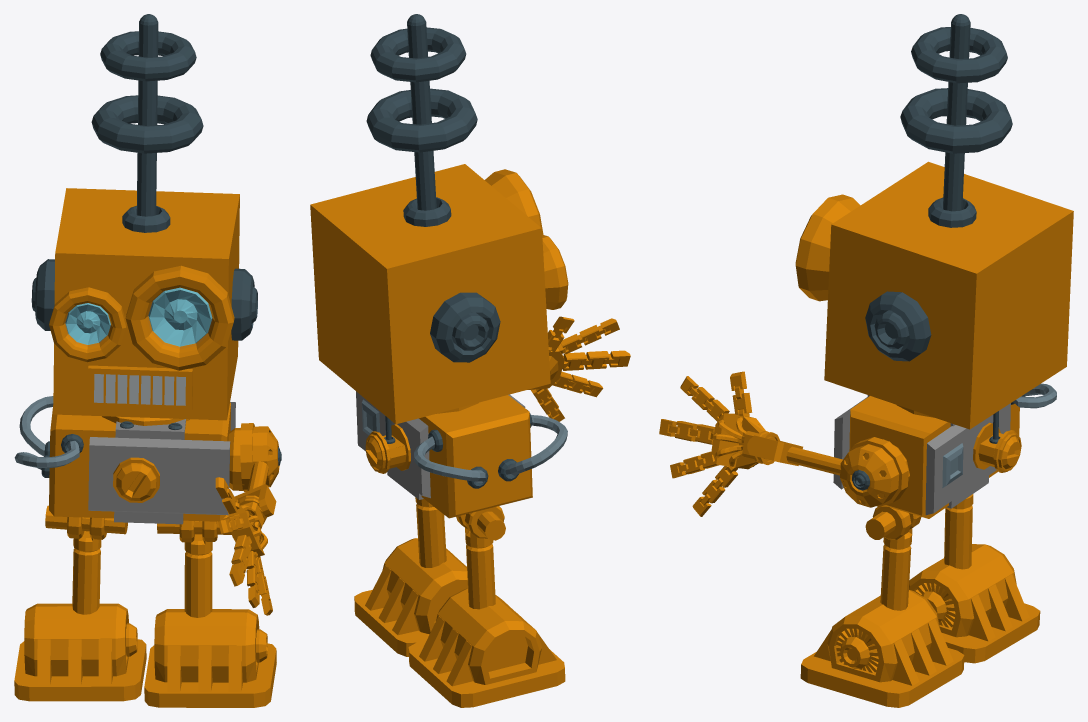
3 views of the same model, side by side, from view 1: azimuth 30°, elevation 25°; view 2: azimuth 150°, elevation 25°; view 3: azimuth 270°, elevation 25° (orthographic).
Visible parts, largest first — view 1: node_MeshObject-820083520-PolyPaper17, node_MeshObject-301363456-PolyPaper13, node_MeshObject736076672-PolyPaper13; view 2: node_MeshObject-820083520-PolyPaper17, node_MeshObject-301363456-PolyPaper13, node_MeshObject736076672-PolyPaper13; view 3: node_MeshObject-820083520-PolyPaper17, node_MeshObject-301363456-PolyPaper13, node_MeshObject736076672-PolyPaper13.
Boxes of the visible parts, box(x1,y1,x2,y2) form: node_MeshObject-820083520-PolyPaper17: box(14, 21, 272, 701); node_MeshObject-301363456-PolyPaper13: box(24, 259, 281, 707); node_MeshObject736076672-PolyPaper13: box(19, 14, 280, 573); node_MeshObject-820083520-PolyPaper17: box(310, 22, 601, 707); node_MeshObject-301363456-PolyPaper13: box(354, 234, 630, 684); node_MeshObject736076672-PolyPaper13: box(361, 14, 609, 482); node_MeshObject-820083520-PolyPaper17: box(691, 21, 1073, 663); node_MeshObject-301363456-PolyPaper13: box(659, 291, 1019, 707); node_MeshObject736076672-PolyPaper13: box(674, 14, 1056, 507).
Bounding box in the file's own units: 1.34 × 3.46 × 2.
